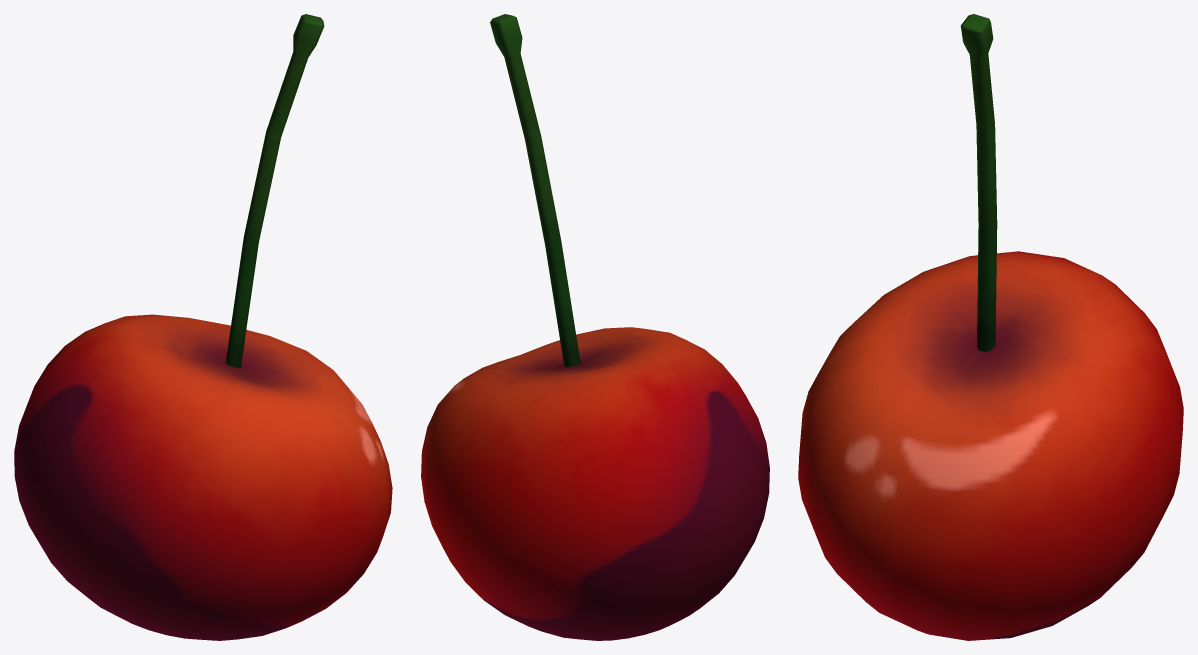
File: cherry.obj
3 renders of one model, left to right at view 1: azimuth 30°, elevation 25°; view 2: azimuth 150°, elevation 25°; view 3: azimuth 270°, elevation 25°, orthographic. The views are drawn at different scales.
Parts seen in each view (by area): view 1: obj6, obj5; view 2: obj6, obj5; view 3: obj6, obj5.
Boxes of the visible parts, left/top/right/bottom form: obj6: left=14, top=314, right=392, bottom=640; obj5: left=226, top=14, right=324, bottom=367; obj6: left=421, top=327, right=769, bottom=640; obj5: left=490, top=14, right=580, bottom=366; obj6: left=798, top=251, right=1183, bottom=640; obj5: left=960, top=14, right=997, bottom=351.
Size of the model in its own units: 4.23 by 7.46 by 4.01.
1 material, 1 textured.
